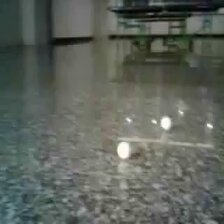w: (116, 141, 131, 159), (160, 116, 172, 130)
